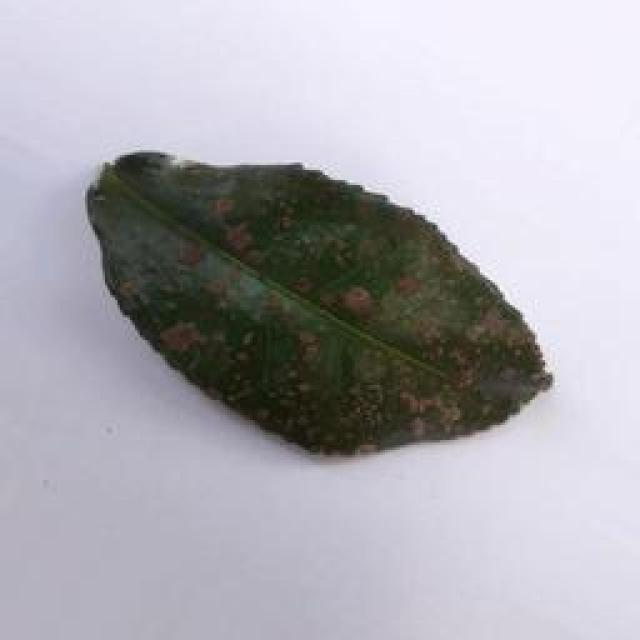Algal Leaf Spot: (89, 143, 560, 465)
